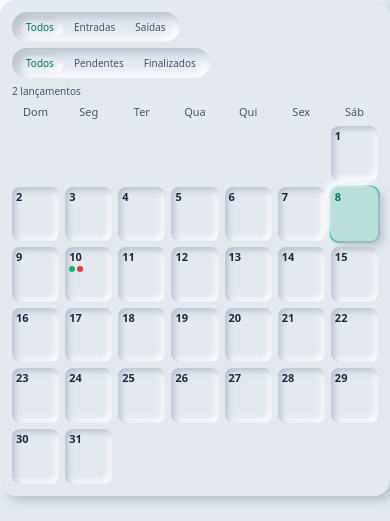
Test: CalendarView › filtra por status: Finalizados esconde pendentes
Click the button "Finalizados".
click(170, 63)  # box [134, 52, 206, 74]
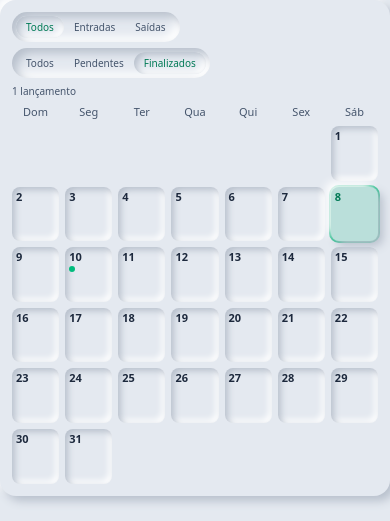
Now the text "1 lançamento" is shown, box [12, 84, 76, 98]
